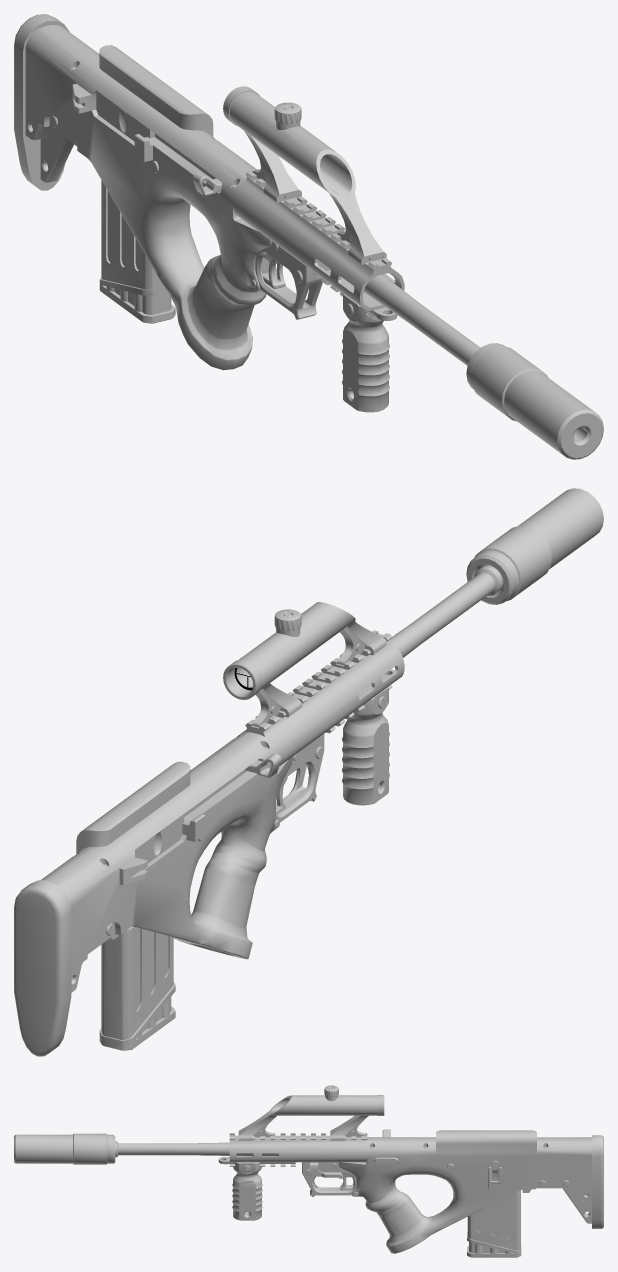
The picture shows the model from 3 angles, top to bottom: view 1: azimuth 30°, elevation 25°; view 2: azimuth 150°, elevation 25°; view 3: azimuth 270°, elevation 25°; orthographic projection. The views are drawn at different scales.
Visible parts, largest first — view 1: base, scope, supressor, mag, grip, ejector; view 2: base, mag, scope, supressor, grip, ejector; view 3: base, scope, supressor, mag, grip.
Part boxes in pixels (x1,y1,x2,y2): base: (14, 14, 480, 370); scope: (223, 86, 386, 264); supressor: (466, 343, 603, 459); mag: (99, 180, 175, 323); grip: (342, 293, 389, 412); ejector: (96, 91, 154, 141); base: (14, 565, 502, 1056); mag: (99, 926, 175, 1050); scope: (223, 602, 386, 727); supressor: (466, 488, 603, 604); grip: (342, 686, 389, 805); ejector: (135, 814, 184, 863); base: (115, 1130, 603, 1253); scope: (238, 1085, 384, 1140); supressor: (14, 1133, 115, 1164); mag: (467, 1190, 521, 1257); grip: (232, 1162, 262, 1220).
Size of the model in its own units: 7.77 by 32.25 by 104.
